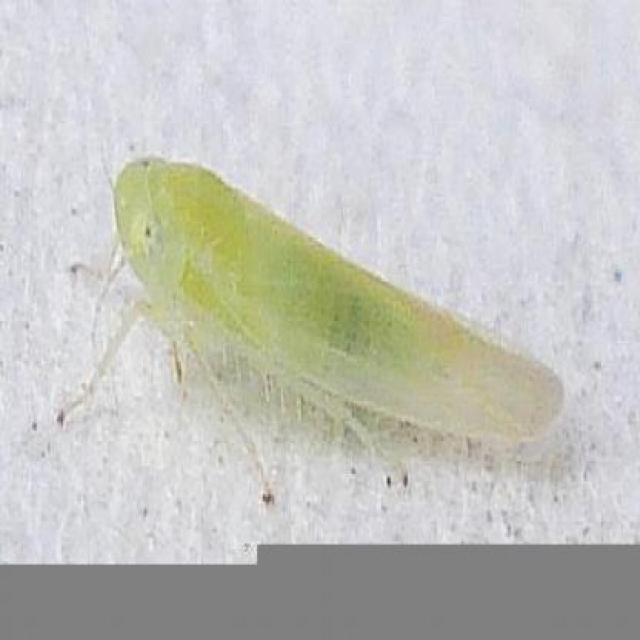green-leafhopper: (105, 160, 563, 474)
